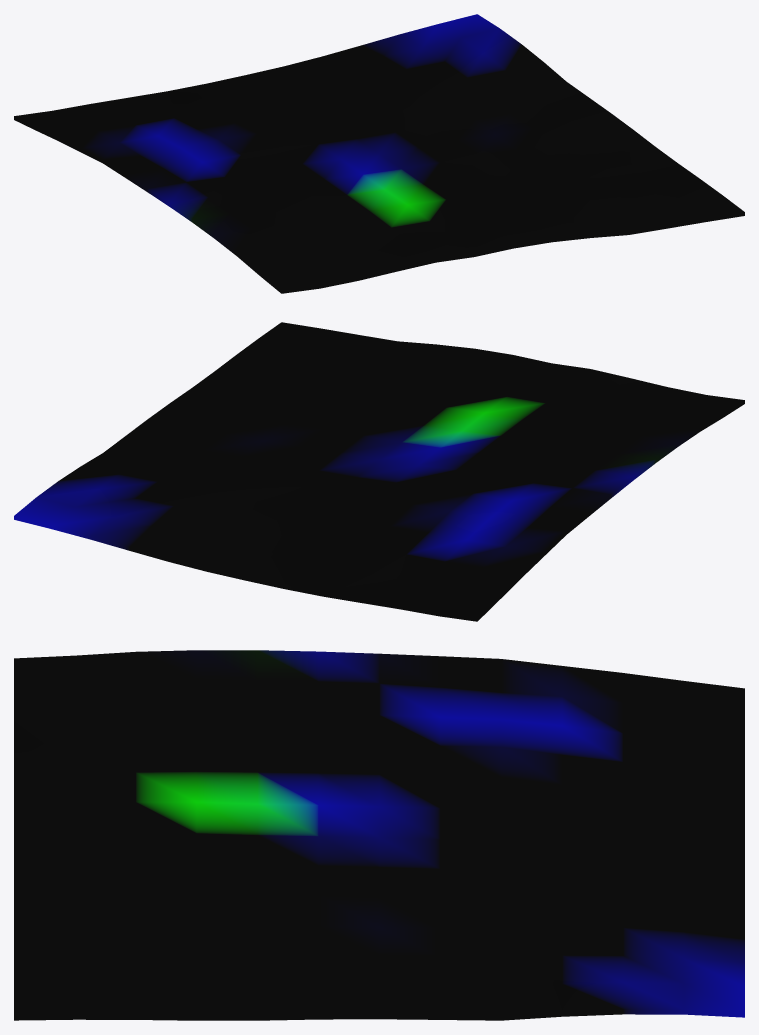
Rendered from coast_0_3.glb.
3 views of the same model, one above another, from view 1: azimuth 30°, elevation 25°; view 2: azimuth 150°, elevation 25°; view 3: azimuth 270°, elevation 25° (orthographic). The views are drawn at different scales.
Parts seen in each view (by area): view 1: terrain; view 2: terrain; view 3: terrain.
Boxes of the visible parts, left/top/right/bottom form: terrain: left=14, top=14, right=744, bottom=293; terrain: left=14, top=322, right=744, bottom=621; terrain: left=14, top=650, right=744, bottom=1020.
Bounding box in the file's own units: 192 × 18.93 × 192.
